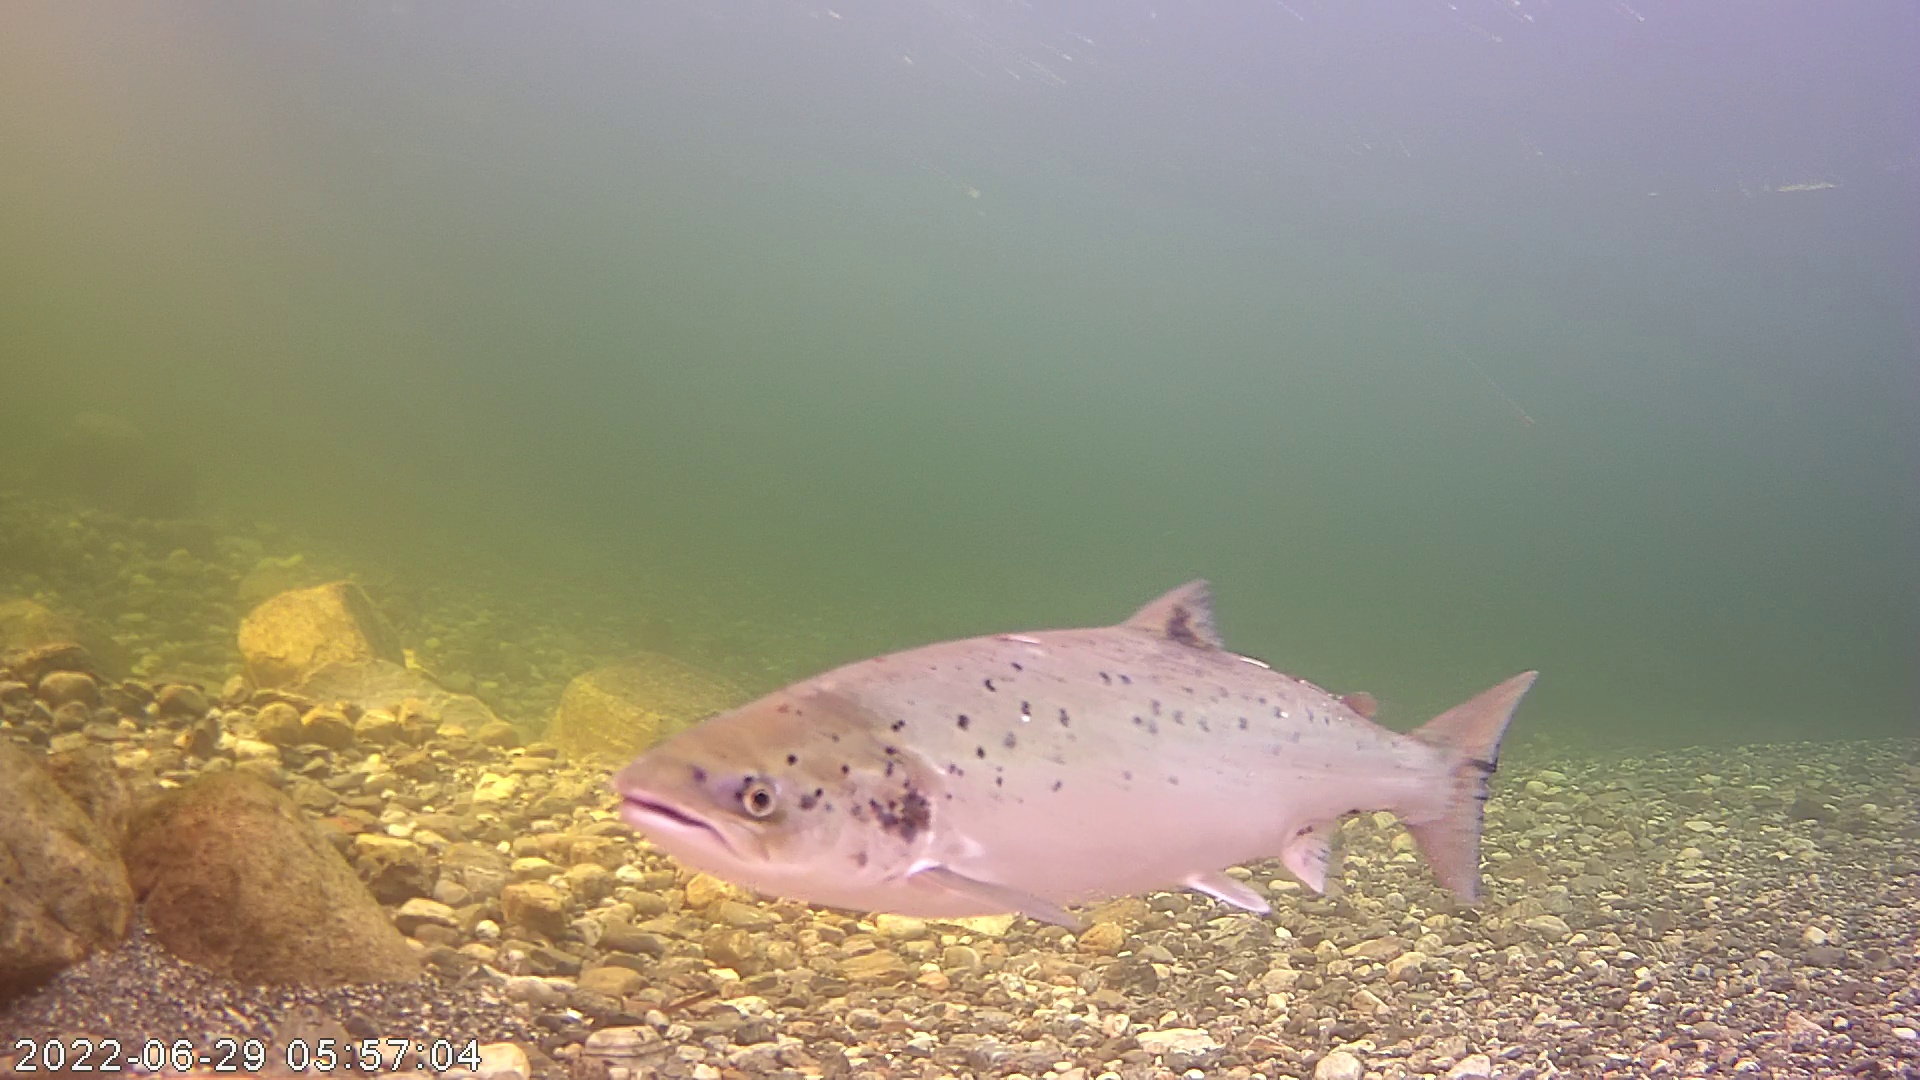salmon: (629, 520, 1535, 936)
